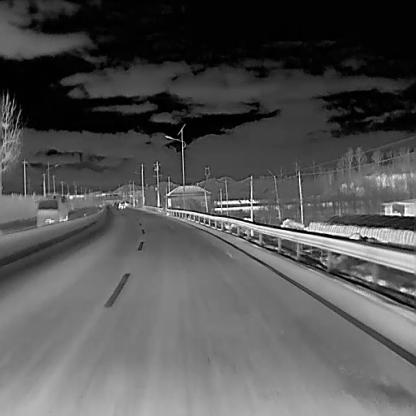car: (34, 194, 69, 228), (117, 199, 125, 208), (124, 200, 130, 207)
